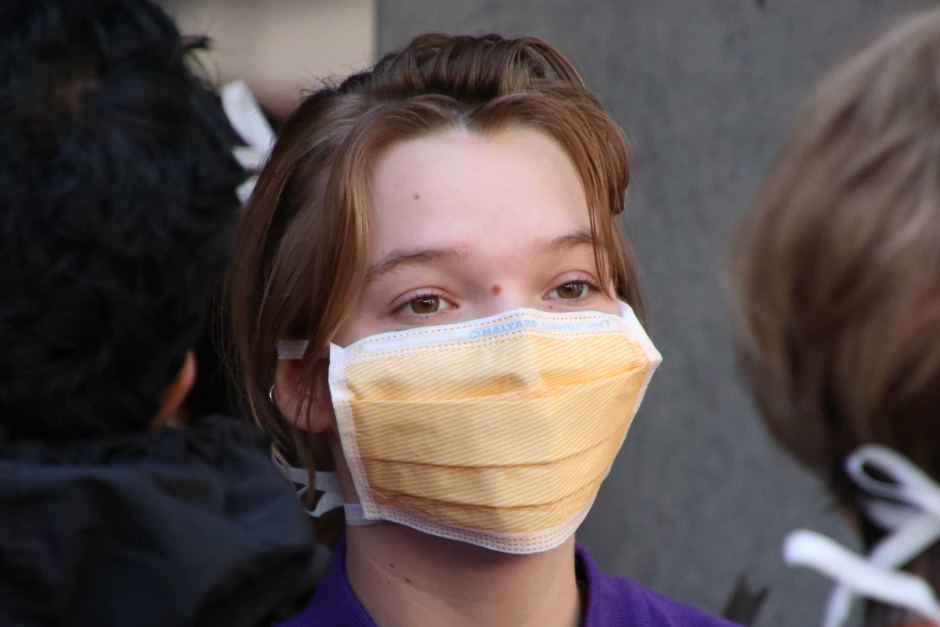surgical: (306, 306, 663, 557)
